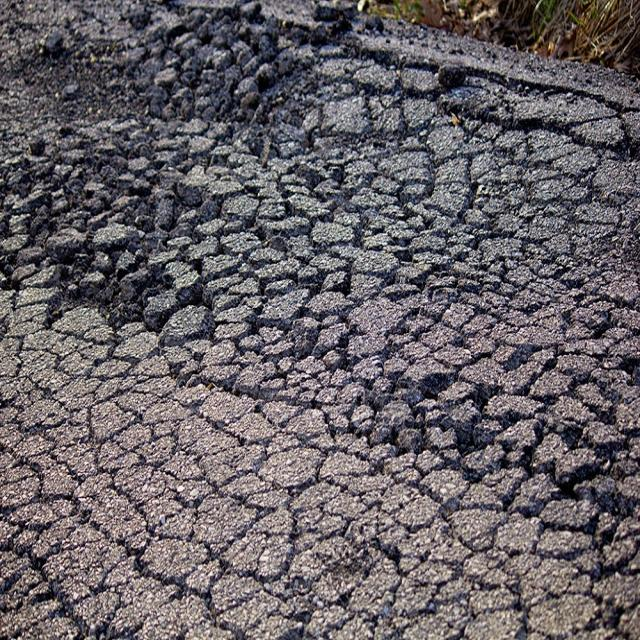Drain Hole: (93, 120, 640, 640)
